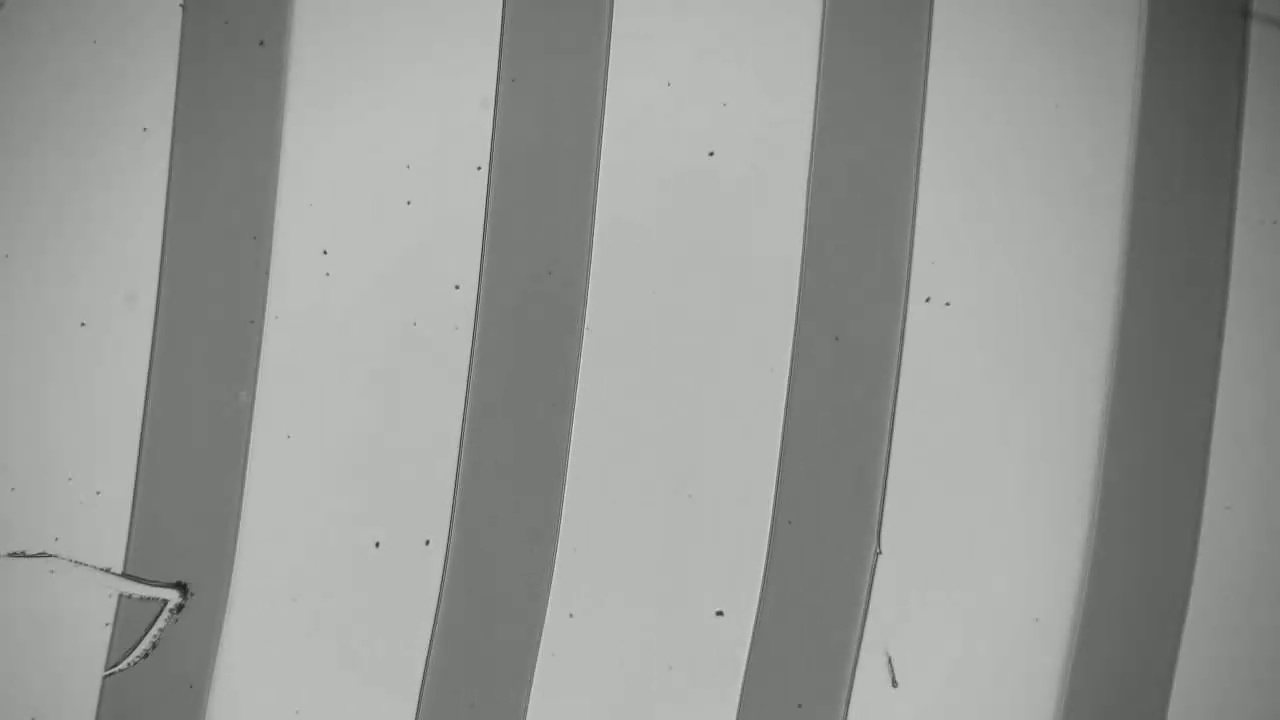Short_circuit: (86, 540, 262, 620)
